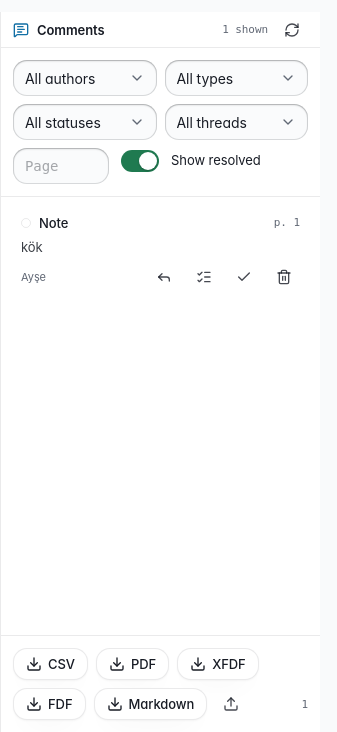
Scenario: CommentsPanel › says nothing matches when the filters hide every comment
Step 1. Type "9" into the field labelled "Page" → (61, 166), box [13,148,109,184]
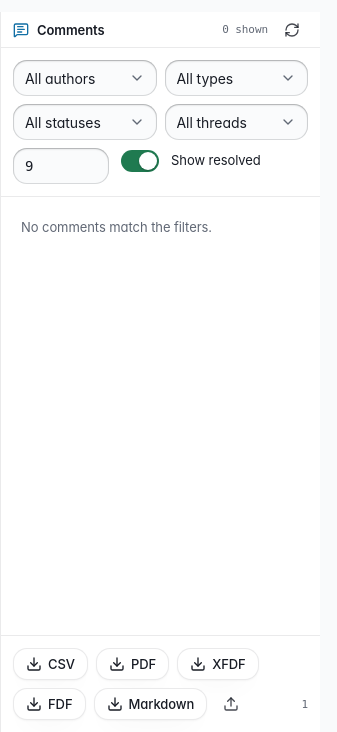
expect the text "No comments match the filters." is shown: met, box [21,219,212,235]
